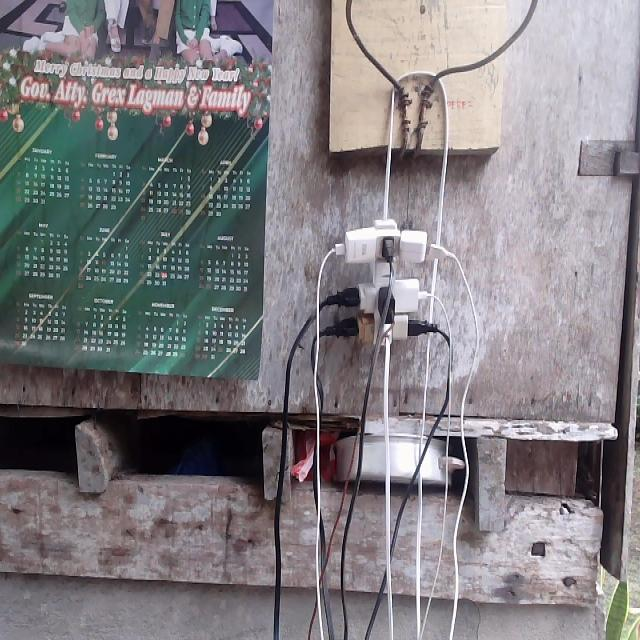-: (322, 217, 439, 344)
